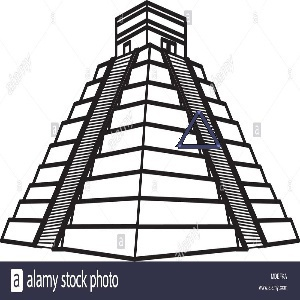triangle: (174, 108, 224, 153)
